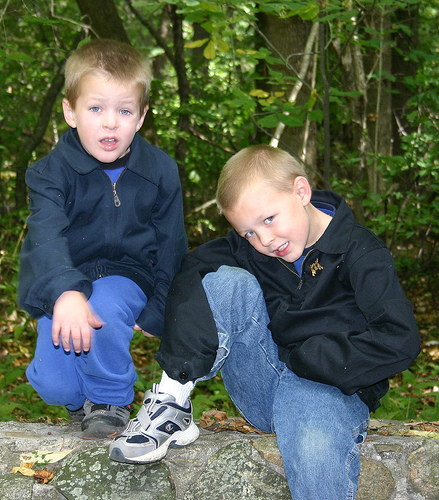without_mask: (216, 163, 320, 267), (61, 62, 153, 167)
